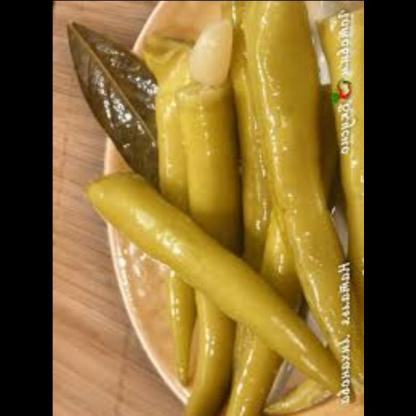hot pepper: (91, 166, 332, 385), (239, 6, 363, 370), (165, 48, 254, 416), (137, 51, 202, 416), (302, 2, 363, 346)
